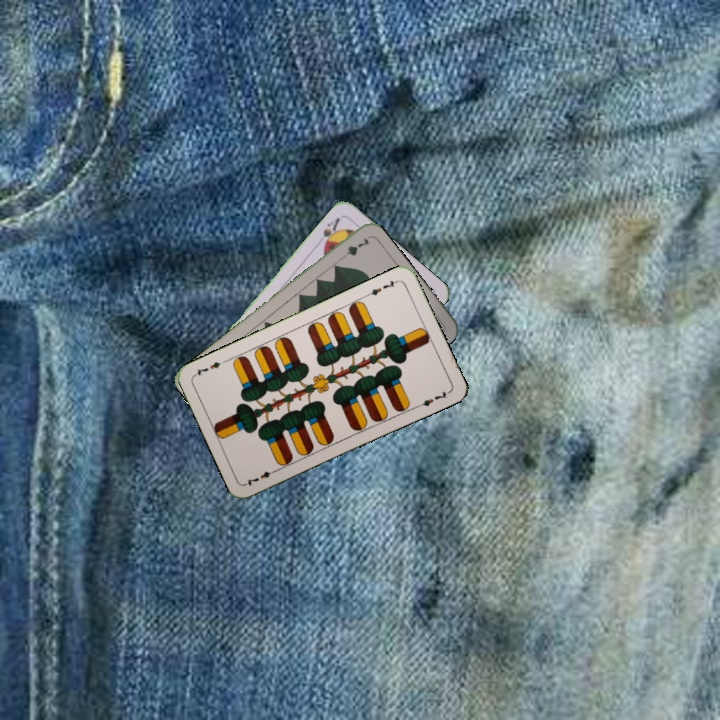E7: (362, 276, 401, 299), (242, 465, 280, 488)
G7: (335, 233, 372, 263)
SA: (319, 213, 343, 251)
